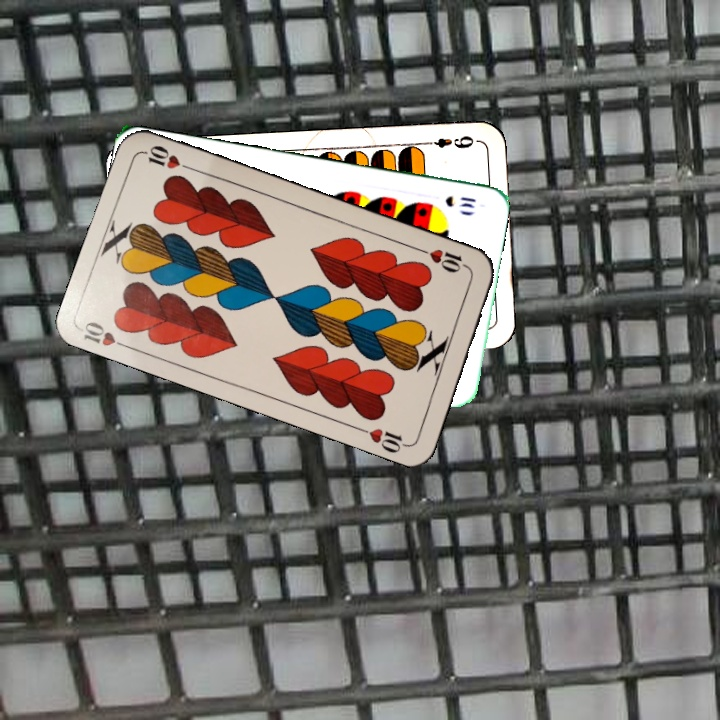E9: (420, 132, 476, 151)
H10: (78, 317, 135, 352), (415, 244, 472, 276)
S10: (441, 192, 479, 211)
